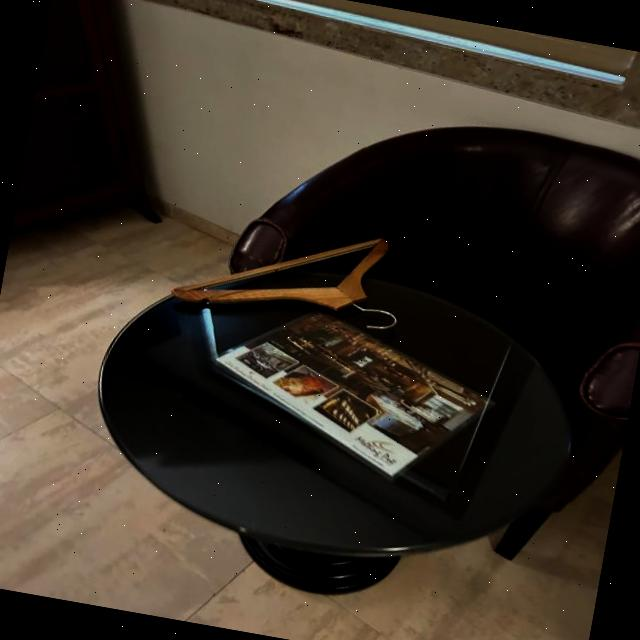chair: (232, 124, 640, 560)
clean_floor: (0, 205, 617, 640)
mess: (177, 242, 450, 454), (167, 238, 397, 330)
messy_table: (61, 230, 597, 634)
